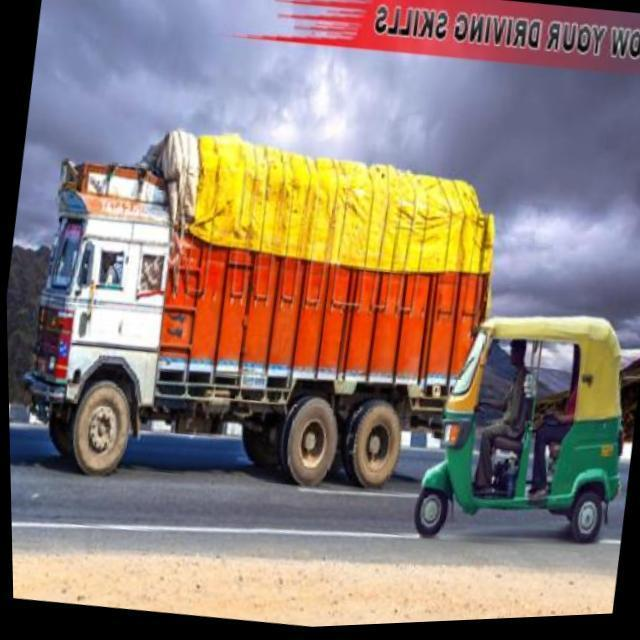truck: (40, 111, 413, 546)
